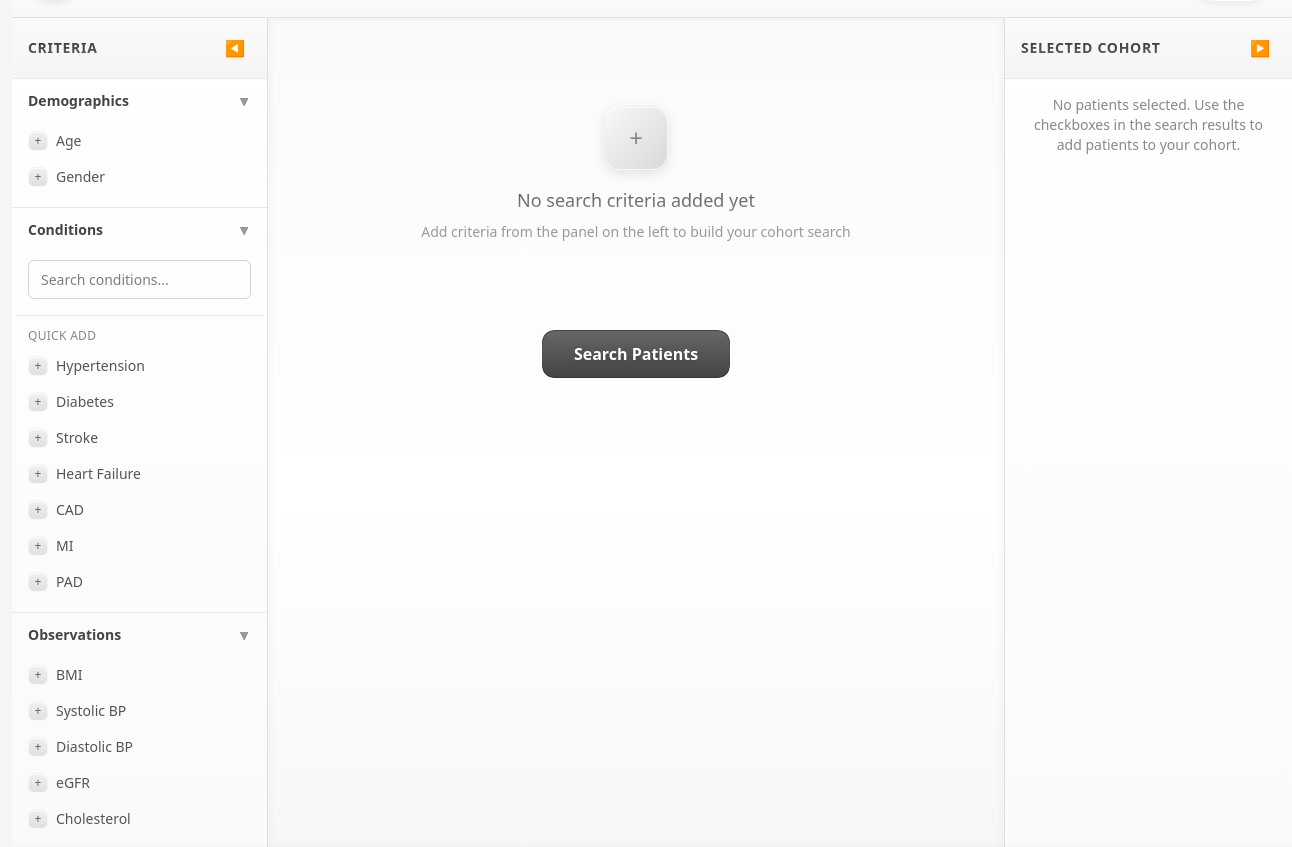
Test: CohortBuilderPage › Updating criteria › should update query when age criteria changes
The image size is (1292, 847).
Click the button with aria-label "Add Age" at (140, 141), box [16, 123, 263, 159]
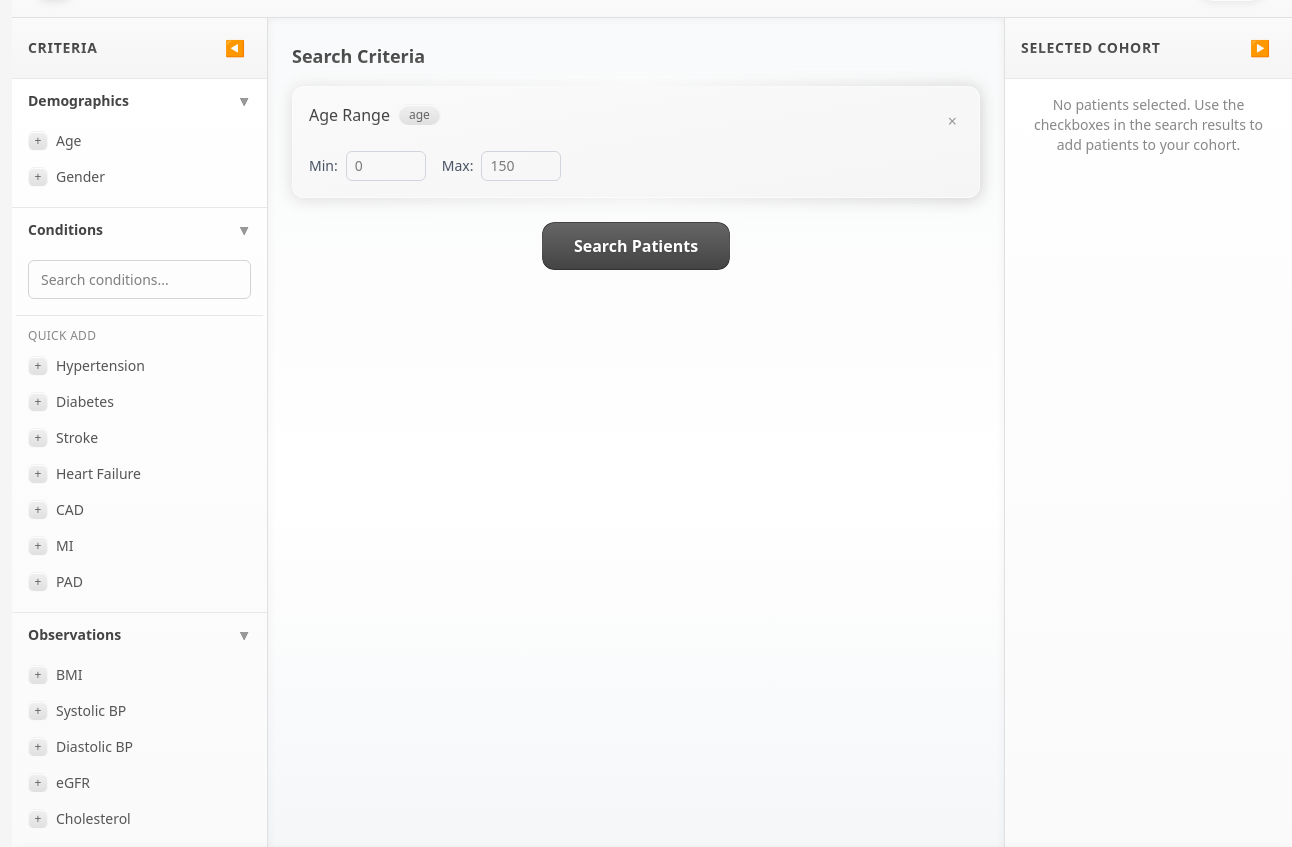
Type "40" into the number field named "Minimum age" at (386, 166), box [346, 151, 426, 181]
(page scrolled)
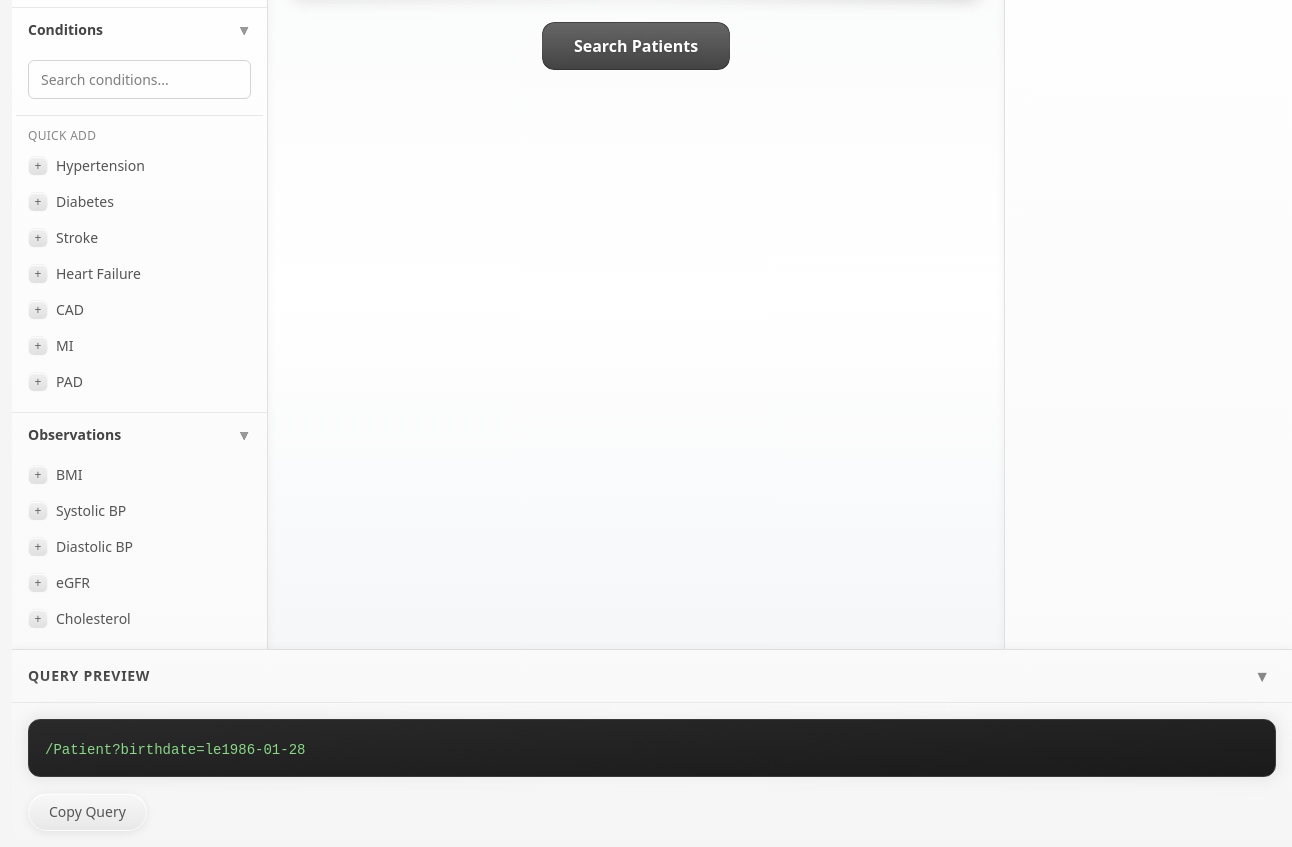
Now the text "/Patient?birthdate=le1986-01-28" is shown, box [45, 742, 306, 758]
